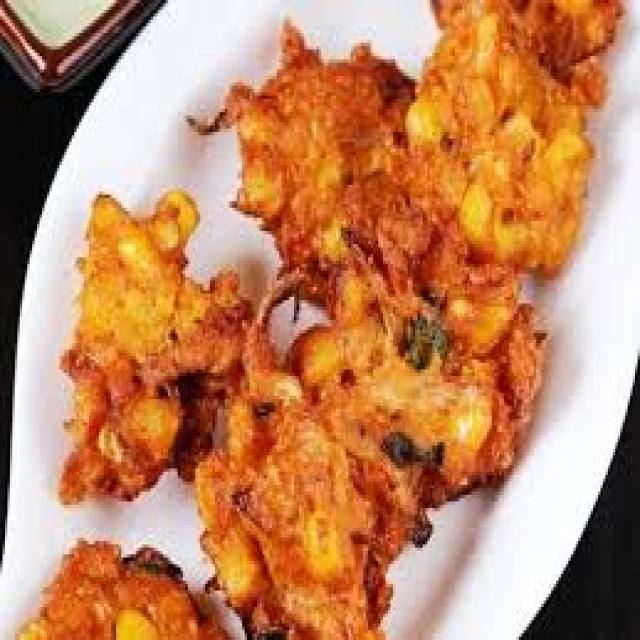BAJI: (282, 185, 545, 515), (194, 319, 436, 637), (65, 193, 253, 497), (232, 36, 417, 309), (411, 0, 595, 265), (20, 552, 222, 637)
